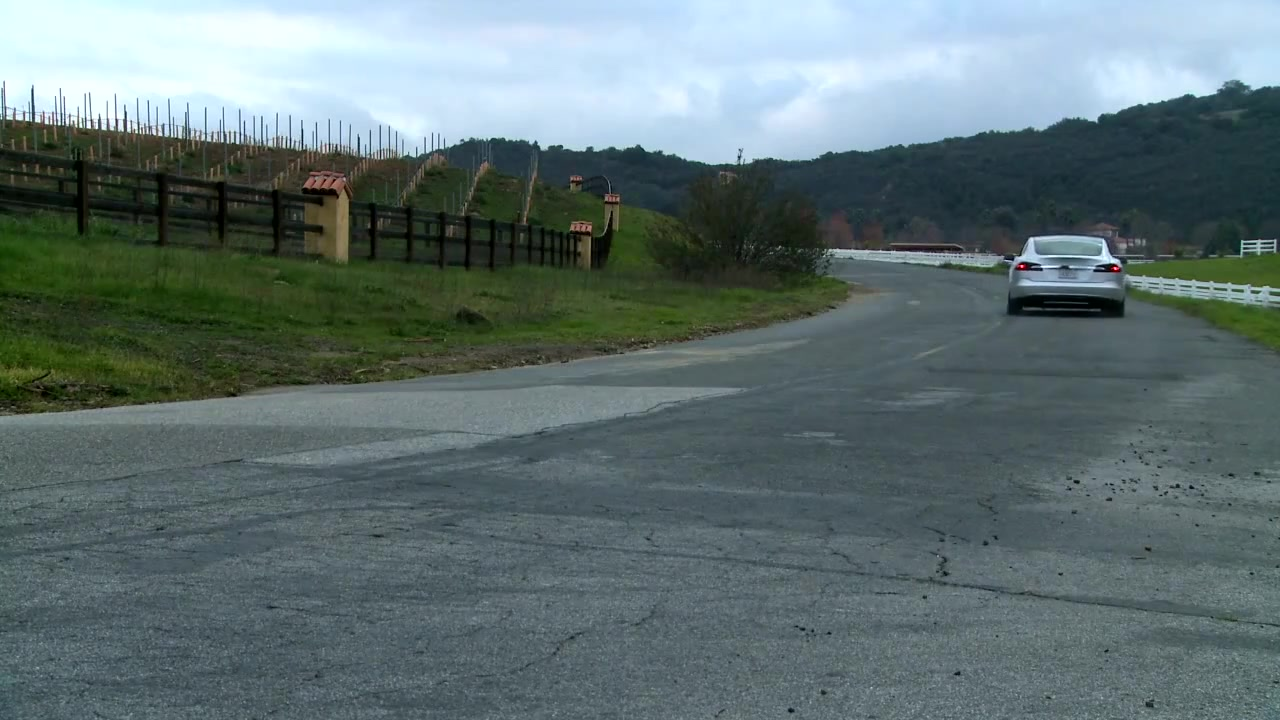car: (1005, 233, 1134, 320)
